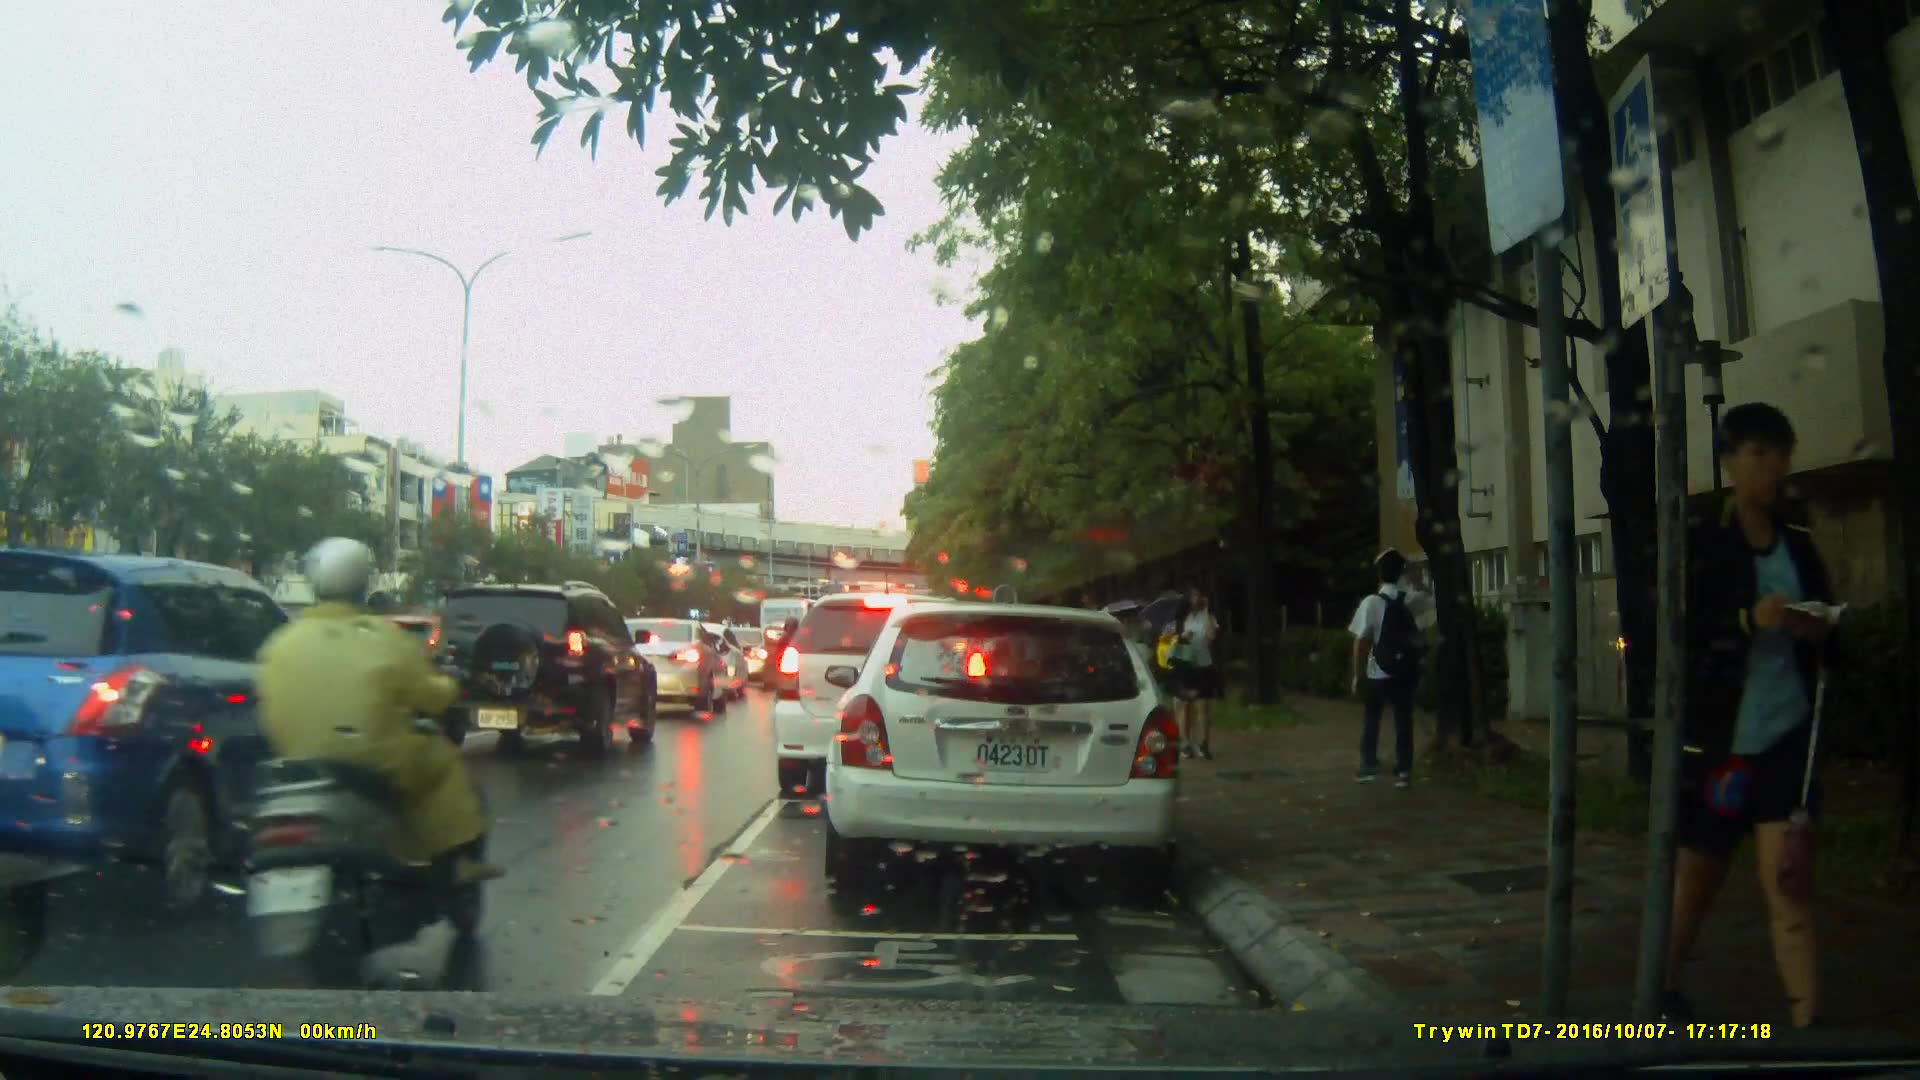pedestrian: (1683, 391, 1835, 1045), (1332, 541, 1441, 791), (1162, 572, 1224, 754)
rider: (223, 536, 493, 982), (771, 616, 804, 705)
vehicle: (1, 552, 400, 903), (815, 593, 1202, 903), (771, 590, 995, 802), (418, 580, 662, 762), (331, 611, 503, 719), (586, 615, 726, 723)
